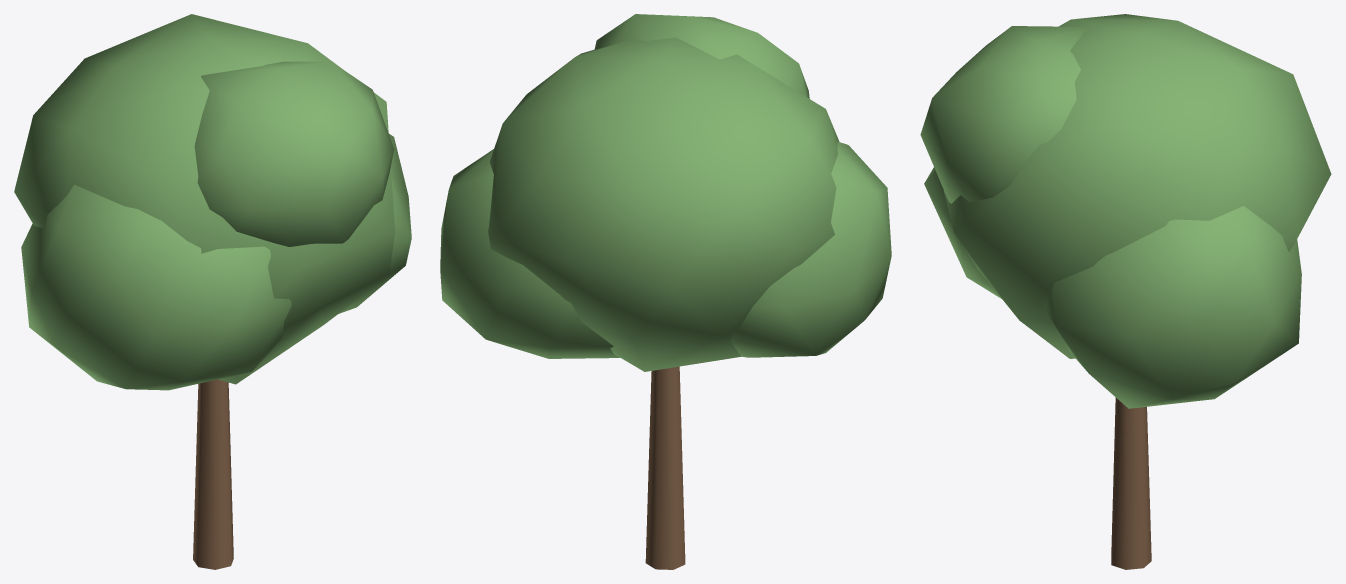
The model's file is tree-broad.glb.
The picture shows the model from 3 angles, left to right: view 1: azimuth 30°, elevation 25°; view 2: azimuth 150°, elevation 25°; view 3: azimuth 270°, elevation 25°; orthographic projection. The views are drawn at different scales.
Parts seen in each view (by area): view 1: leaf, trunk; view 2: leaf, trunk; view 3: leaf, trunk.
Boxes of the visible parts, <box> form: leaf: <box>14,14,411,390</box>; trunk: <box>193,379,233,569</box>; leaf: <box>440,14,891,371</box>; trunk: <box>645,366,685,569</box>; leaf: <box>920,14,1331,408</box>; trunk: <box>1111,397,1151,569</box>.
Size of the model in its own units: 5.97 by 7.66 by 5.4.
